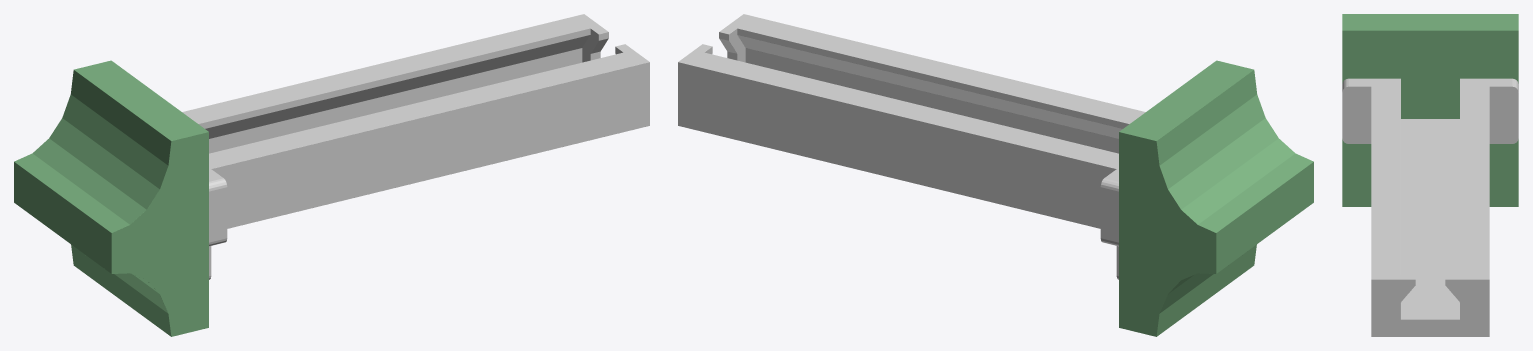
Rendered from VIS_ElasticHingePart2.dae.
The picture shows the model from 3 angles, left to right: view 1: azimuth 30°, elevation 25°; view 2: azimuth 150°, elevation 25°; view 3: azimuth 270°, elevation 25°; orthographic projection. The views are drawn at different scales.
Parts seen in each view (by area): view 1: VIS_ElasticHingePart2; view 2: VIS_ElasticHingePart2; view 3: VIS_ElasticHingePart2.
Boxes of the visible parts, bbox=[...] form: VIS_ElasticHingePart2: bbox=[14, 14, 649, 336]; VIS_ElasticHingePart2: bbox=[678, 14, 1313, 336]; VIS_ElasticHingePart2: bbox=[1342, 14, 1518, 336].
Size of the model in its own units: 0.074 by 0.0226 by 0.025.
